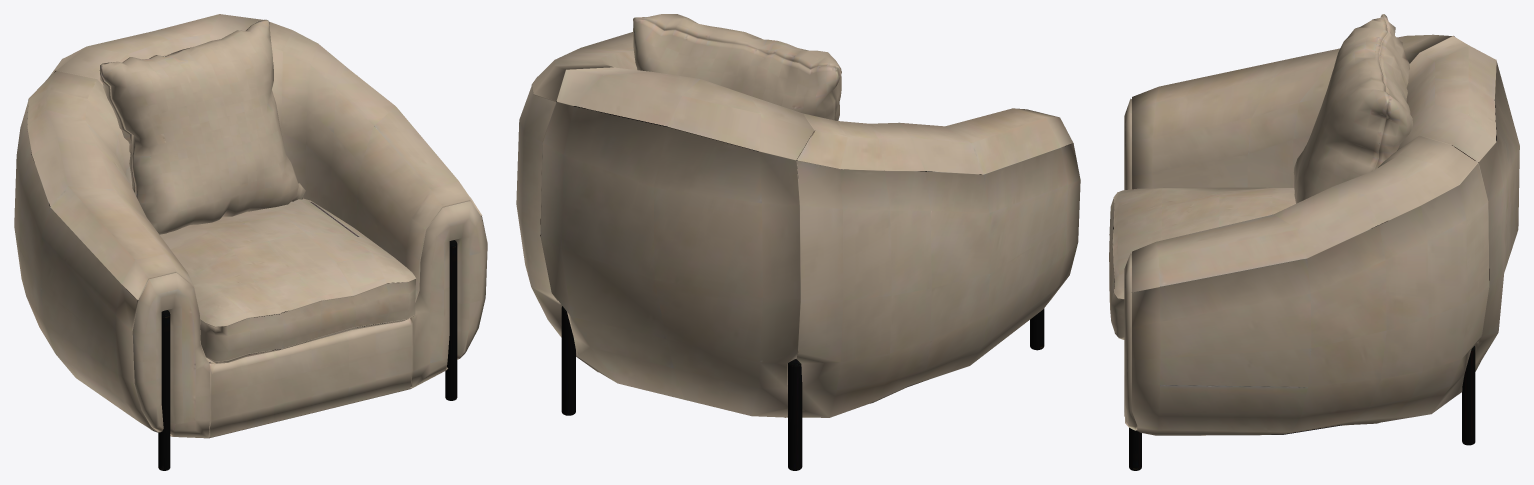
Rendered from armchairPeru.glb.
3 views of the same model, side by side, from view 1: azimuth 30°, elevation 25°; view 2: azimuth 150°, elevation 25°; view 3: azimuth 270°, elevation 25° (orthographic). The views are drawn at different scales.
Parts seen in each view (by area): view 1: Armchair; view 2: Armchair; view 3: Armchair.
Boxes of the visible parts, box(x1,y1,x2,y2) form: Armchair: box(14, 14, 487, 470); Armchair: box(516, 14, 1080, 470); Armchair: box(1109, 14, 1519, 470).
Bounding box in the file's own units: 1.11 × 0.8906 × 0.9852.
1 material, 1 textured.
